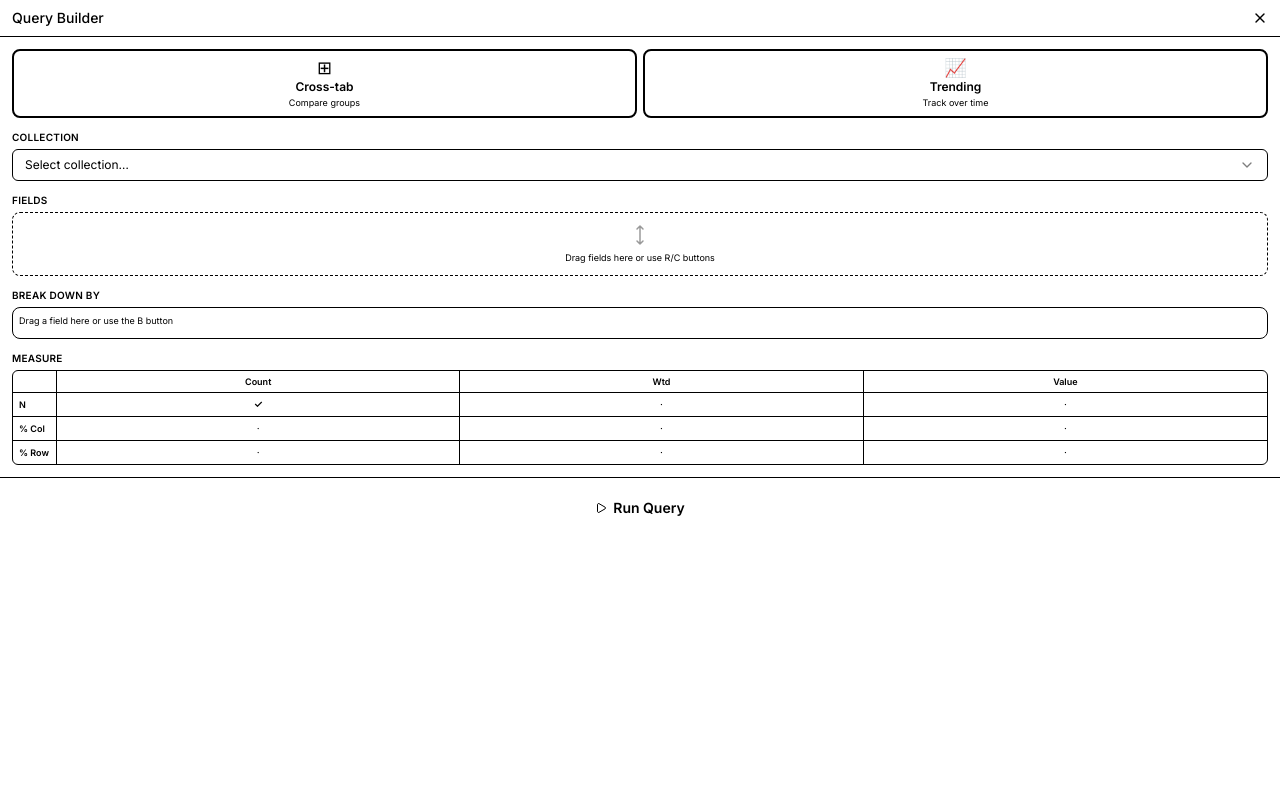
Scenario: QueryBuilderPanel › shows error when Run clicked without a collection in trend mode
This screenshot has width=1280, height=800.
Step 1. Click the button "Run Query" → (640,508), box [12,490,1268,526]
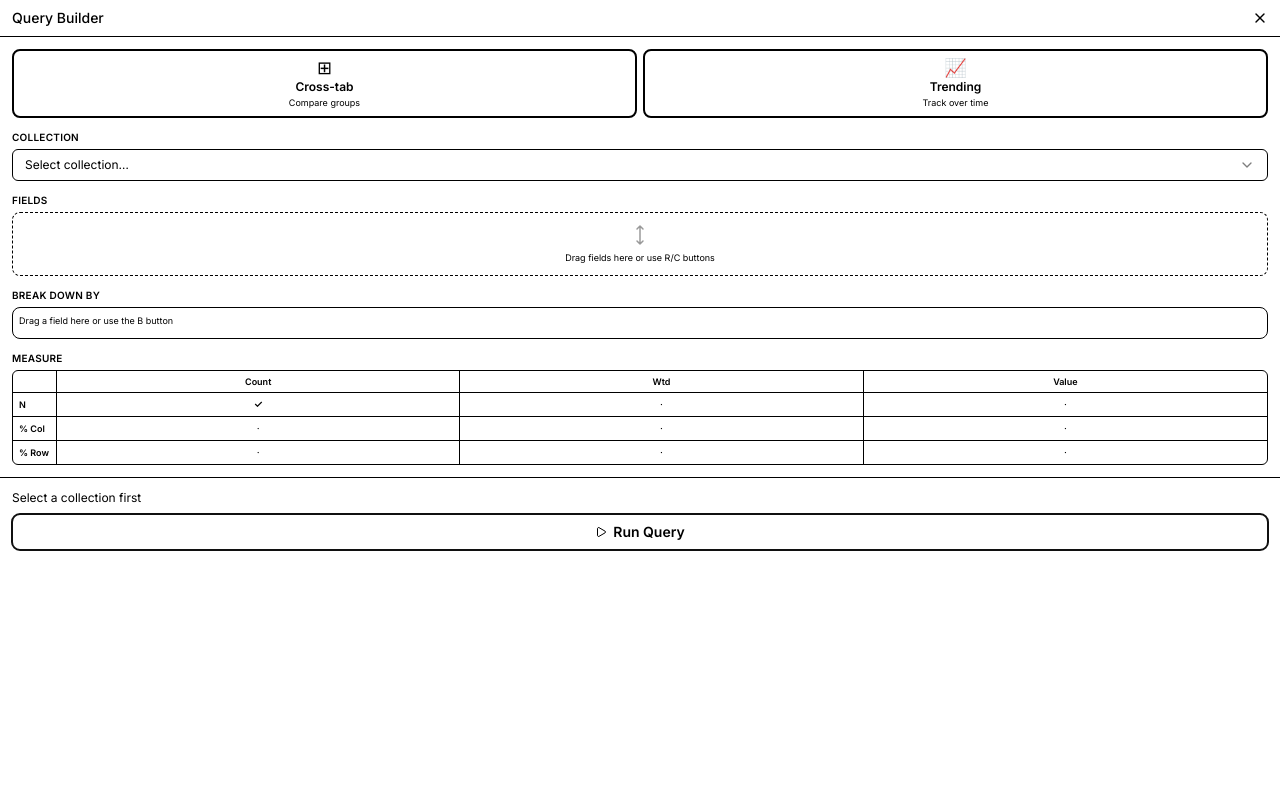
Check: the text "Select a collection first" is shown, box [12,490,141,505]
